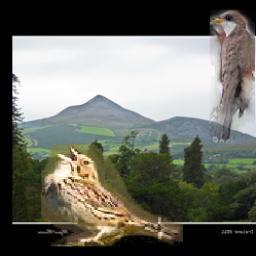Cuckoo: (210, 10, 255, 142)
Sparrow: (41, 144, 183, 247)
